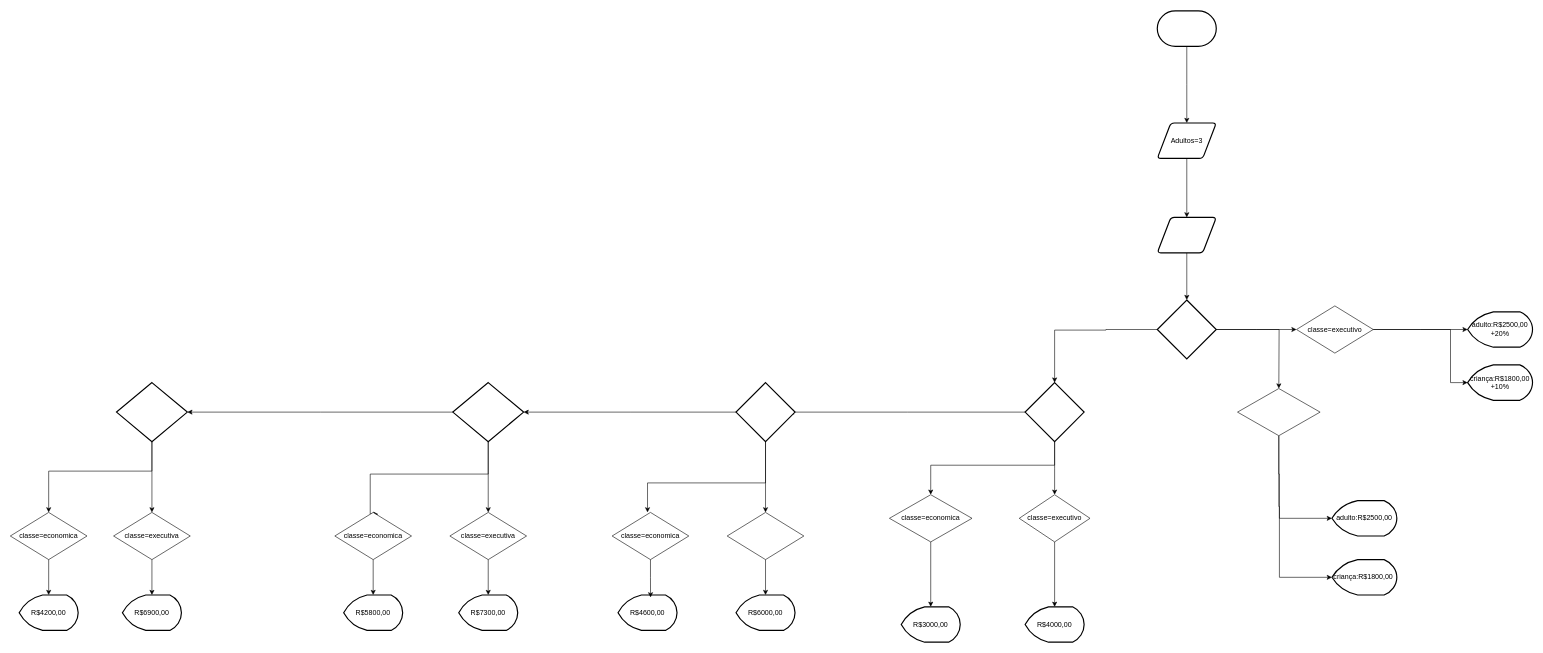
The diagram is 1543 pixels wide and 653 high, and some of its shapes have lost their labels. The centre of each missing label's shape, as x and y in pixels:
classe=ecomomica: the point at 1278,412
classe=executino: the point at 765,536
crianças=2: the point at 1186,235
destino=Africa: the point at 152,412
destino=Asia: the point at 765,412
destino=Europeu: the point at 488,412
destino=Norte: the point at 1186,329
destino=Sul: the point at 1054,412
Inicio: the point at 1186,28
